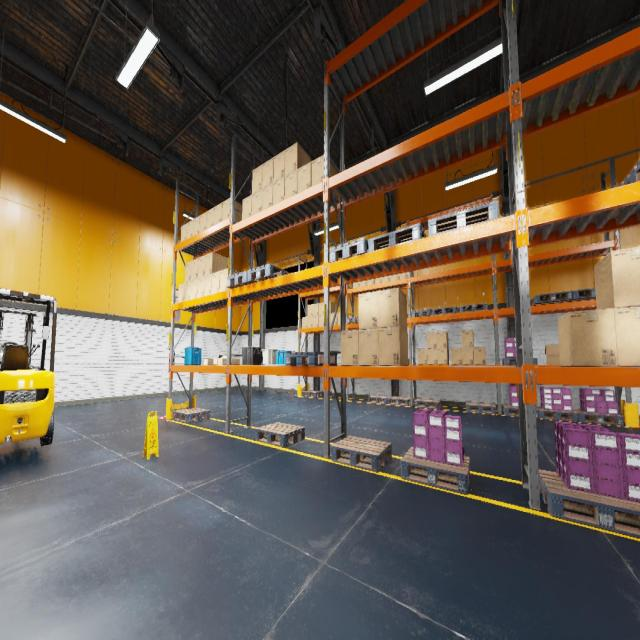box: (557, 308, 618, 367), (594, 246, 640, 309), (614, 306, 640, 367), (378, 287, 407, 329), (378, 326, 408, 366), (311, 155, 338, 198), (285, 142, 310, 176), (358, 328, 378, 366), (358, 291, 378, 329), (341, 330, 359, 366), (205, 252, 227, 275), (222, 197, 242, 222), (220, 268, 238, 292), (297, 162, 311, 192), (273, 150, 285, 182), (285, 170, 297, 199), (262, 158, 273, 188), (544, 345, 560, 364), (252, 164, 262, 194), (273, 177, 284, 204), (262, 183, 272, 210), (252, 189, 262, 215), (242, 194, 252, 220), (474, 346, 486, 364), (462, 330, 474, 347), (462, 348, 474, 364), (436, 332, 448, 348), (437, 348, 449, 364), (214, 202, 222, 225), (212, 271, 220, 293), (204, 274, 212, 296), (451, 348, 462, 364), (206, 207, 214, 228), (198, 255, 205, 278), (199, 212, 207, 232), (190, 279, 198, 299), (427, 348, 437, 364), (197, 276, 204, 298), (191, 258, 198, 280), (192, 216, 200, 235), (417, 349, 427, 364), (427, 332, 436, 348), (337, 312, 348, 325), (184, 281, 191, 301), (180, 223, 187, 242), (185, 260, 191, 282), (187, 219, 193, 239), (178, 283, 184, 302), (218, 354, 227, 364), (331, 312, 337, 326), (318, 302, 324, 315), (399, 272, 410, 279), (318, 314, 324, 326), (307, 316, 313, 328), (307, 304, 313, 316), (204, 358, 215, 364), (330, 301, 335, 313), (313, 315, 318, 327), (302, 316, 307, 328), (313, 304, 318, 316), (391, 274, 399, 281), (231, 358, 240, 364), (218, 358, 227, 364), (375, 277, 382, 284), (382, 276, 390, 282), (360, 280, 367, 286), (353, 282, 360, 288), (368, 279, 374, 285), (213, 358, 218, 364), (330, 314, 330, 326)
forklift: (0, 288, 57, 446)
pallets: (538, 469, 640, 538), (401, 447, 470, 495), (428, 201, 499, 236), (331, 436, 392, 472), (368, 223, 427, 252), (255, 422, 305, 447), (329, 238, 368, 262), (572, 410, 624, 426), (247, 264, 290, 282), (285, 352, 337, 366), (537, 407, 578, 422), (618, 159, 640, 186), (531, 291, 572, 305), (173, 408, 210, 423), (227, 271, 259, 288), (502, 404, 538, 418), (466, 402, 496, 414), (570, 288, 596, 301), (415, 398, 441, 409), (432, 306, 458, 316), (460, 303, 488, 312), (368, 394, 391, 404), (387, 396, 410, 406), (502, 358, 537, 364), (412, 309, 431, 317), (302, 391, 323, 397), (347, 316, 358, 324), (305, 360, 307, 363), (408, 358, 409, 364)
